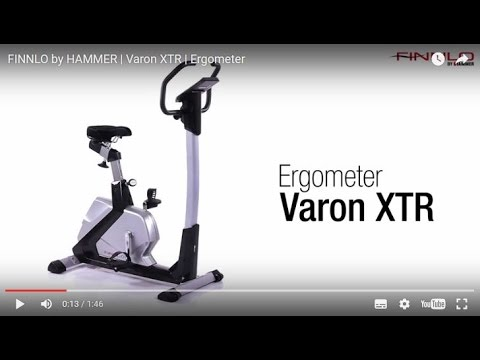gym_bike: (47, 59, 241, 307)
